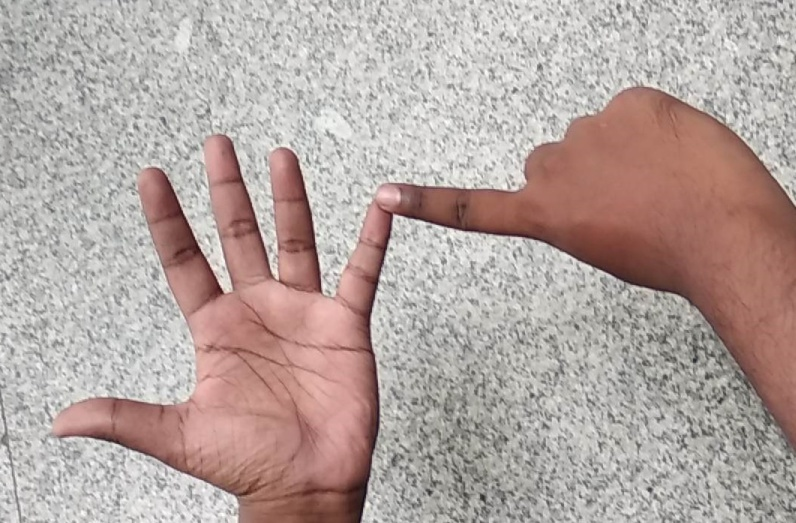i: (52, 124, 577, 487)
